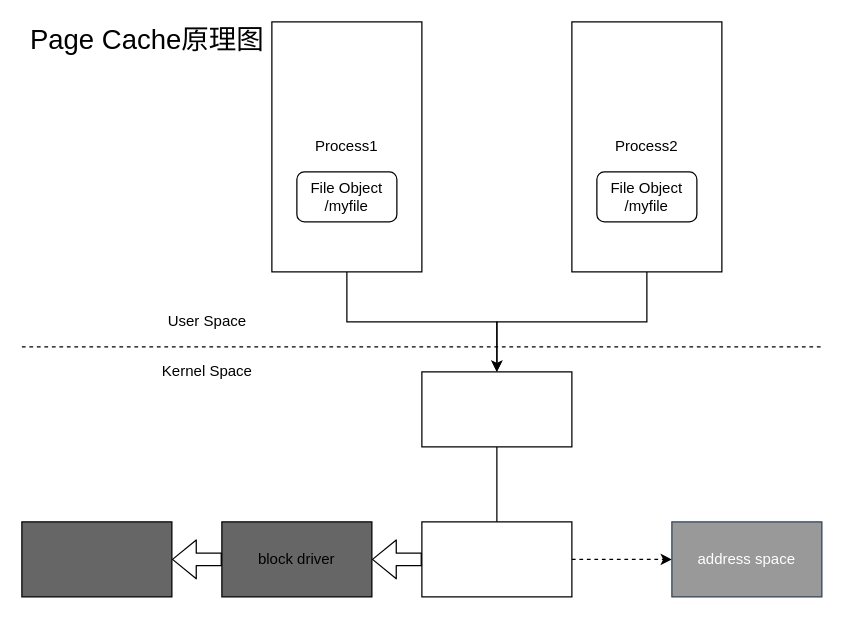
The diagram is 845 pixels wide and 619 high, and some of its shapes have lost their labels. The box of each missing label's shape, as (x1, y1, x2, y2) in pixels:
disk: (21, 521, 172, 597)
inode: (421, 521, 572, 597)
VFS: (421, 371, 572, 447)
